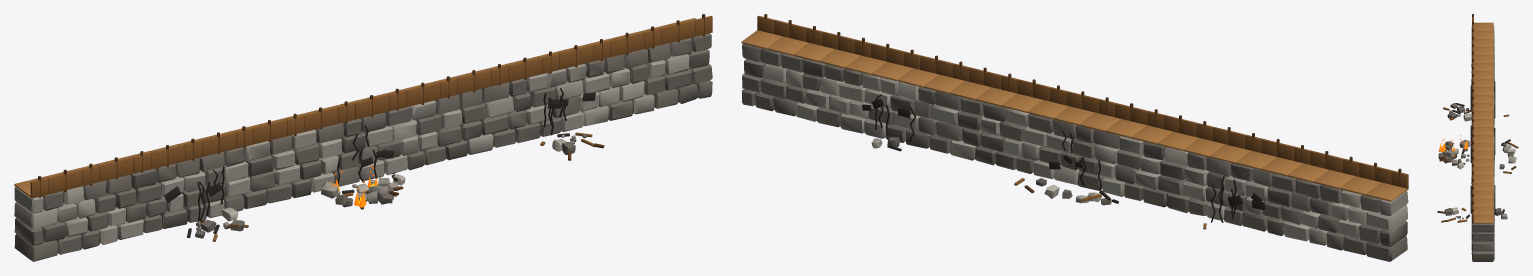
Rendered from mur_bok_etap3.glb.
3 renders of one model, left to right at view 1: azimuth 30°, elevation 25°; view 2: azimuth 150°, elevation 25°; view 3: azimuth 270°, elevation 25°, orthographic. The views are drawn at different scales.
Parts seen in each view (by area): view 1: mur_bok_etap3; view 2: mur_bok_etap3; view 3: mur_bok_etap3.
Part boxes in pixels (x1,y1,x2,y2): mur_bok_etap3: [14, 14, 712, 261]; mur_bok_etap3: [741, 14, 1408, 261]; mur_bok_etap3: [1437, 14, 1518, 261].
Size of the model in its own units: 40.02 by 4.86 by 6.87.
